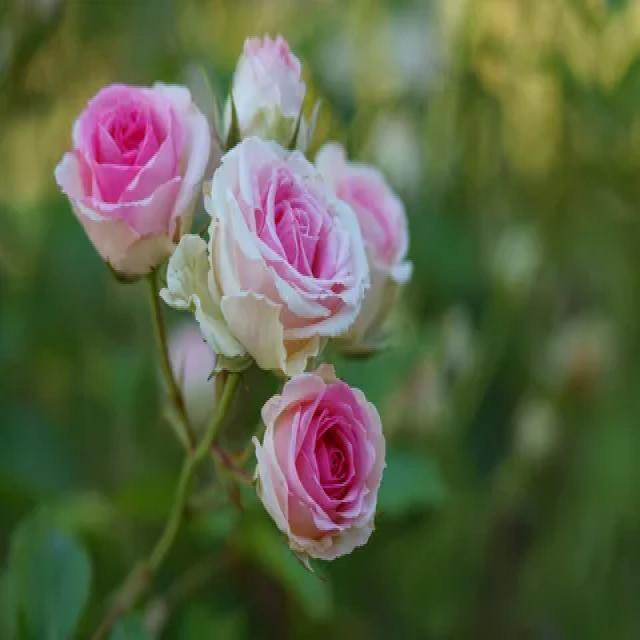rose: (48, 51, 212, 299), (246, 355, 398, 574)
